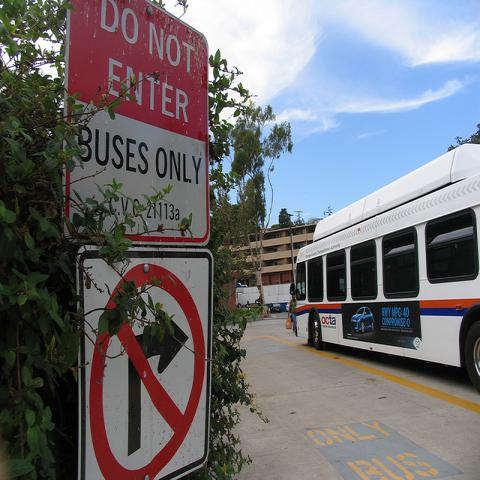bus: (295, 139, 480, 391)
